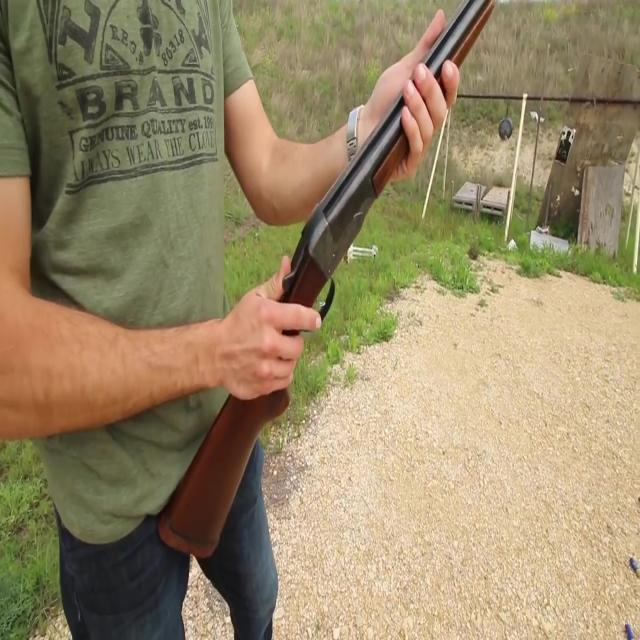Weapon: (146, 0, 524, 558)
